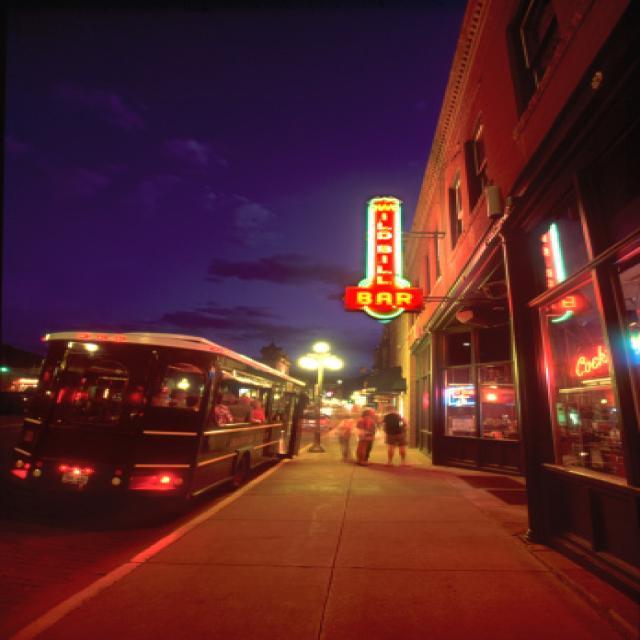Bus: (3, 311, 326, 519)
People: (374, 402, 411, 471), (344, 406, 380, 462)
